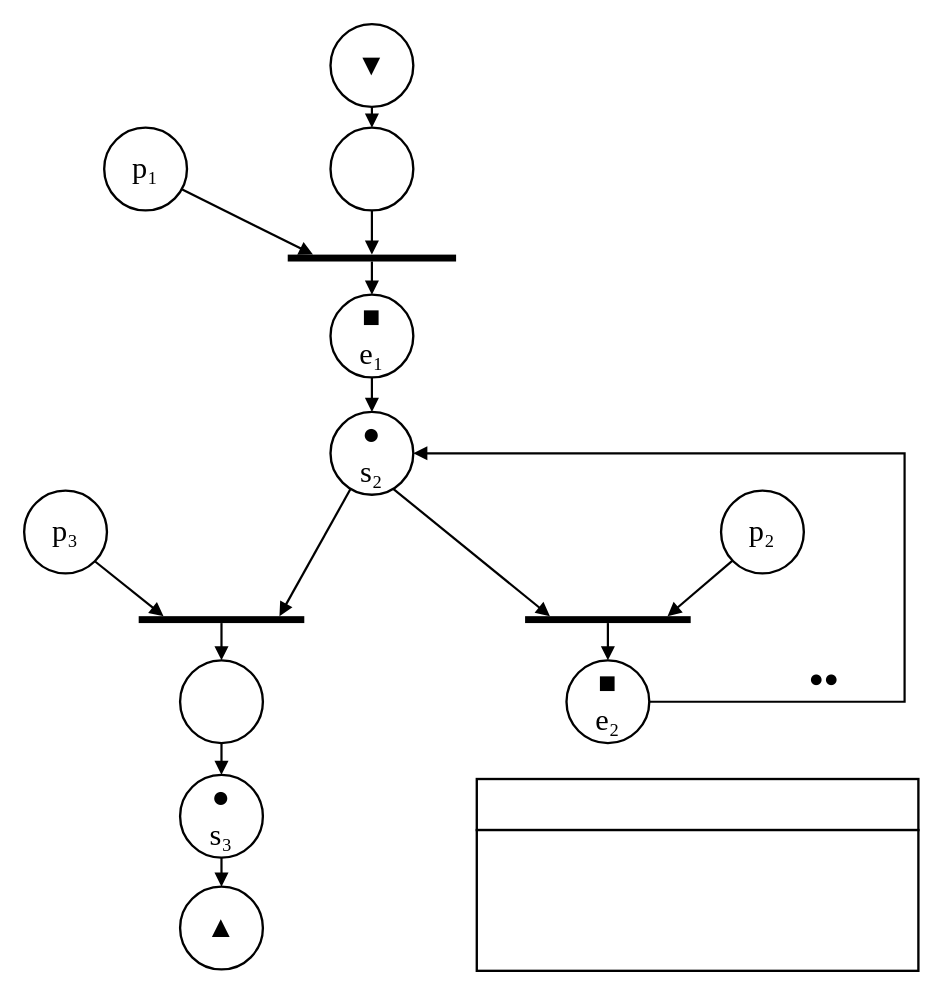
This 944x996 diagram has some shape labels left out. The shapes that lost their labels are listed below. From the top down, each one's centre as x and y in pixels, then its label:
the point at 371,168: ● s₁
the point at 220,701: ■ e₃
the point at 697,804: Условные обозначения
the point at 697,899: ▼ Начало ▲ Конец ● Состояние ■ Действие ○ Событие ●● Изменение состояния
